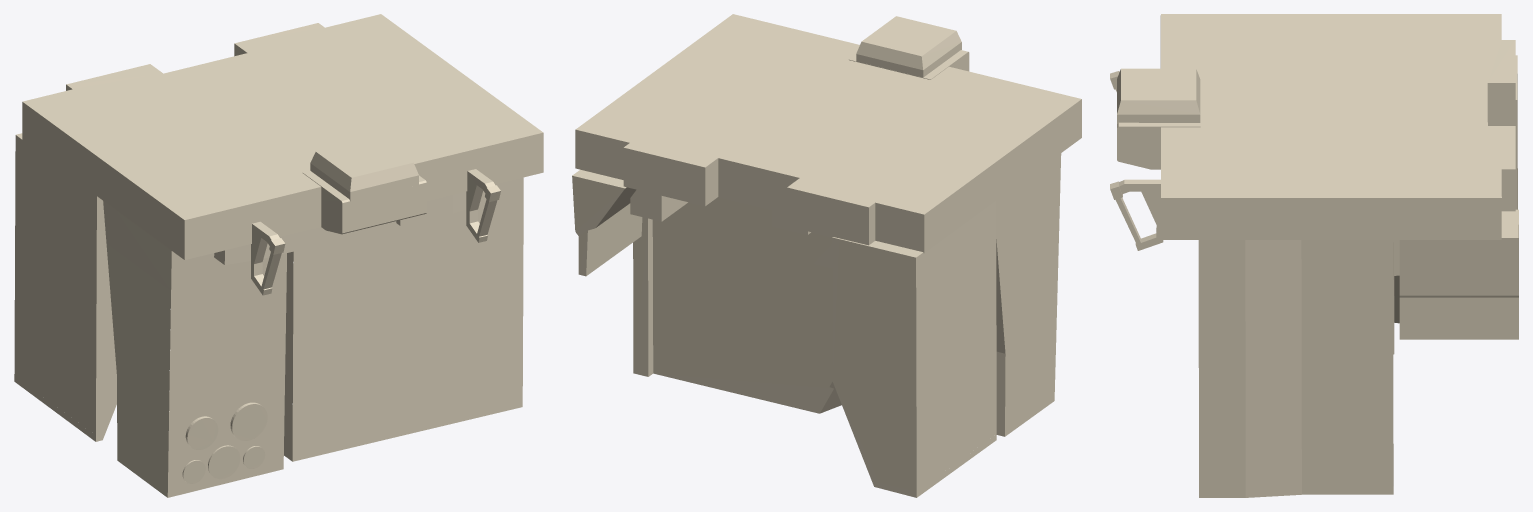
File: asim.glb
The picture shows the model from 3 angles, left to right: view 1: azimuth 30°, elevation 25°; view 2: azimuth 150°, elevation 25°; view 3: azimuth 270°, elevation 25°; orthographic projection. The views are drawn at different scales.
Visible parts, largest first — view 1: Payload_ASIM; view 2: Payload_ASIM; view 3: Payload_ASIM.
Part boxes in pixels (x1=…): Payload_ASIM: x1=14, y1=14, x2=543, y2=497; Payload_ASIM: x1=572, y1=14, x2=1081, y2=497; Payload_ASIM: x1=1110, y1=14, x2=1518, y2=497.
Size of the model in its own units: 0.1204 by 0.1011 by 0.1129.
